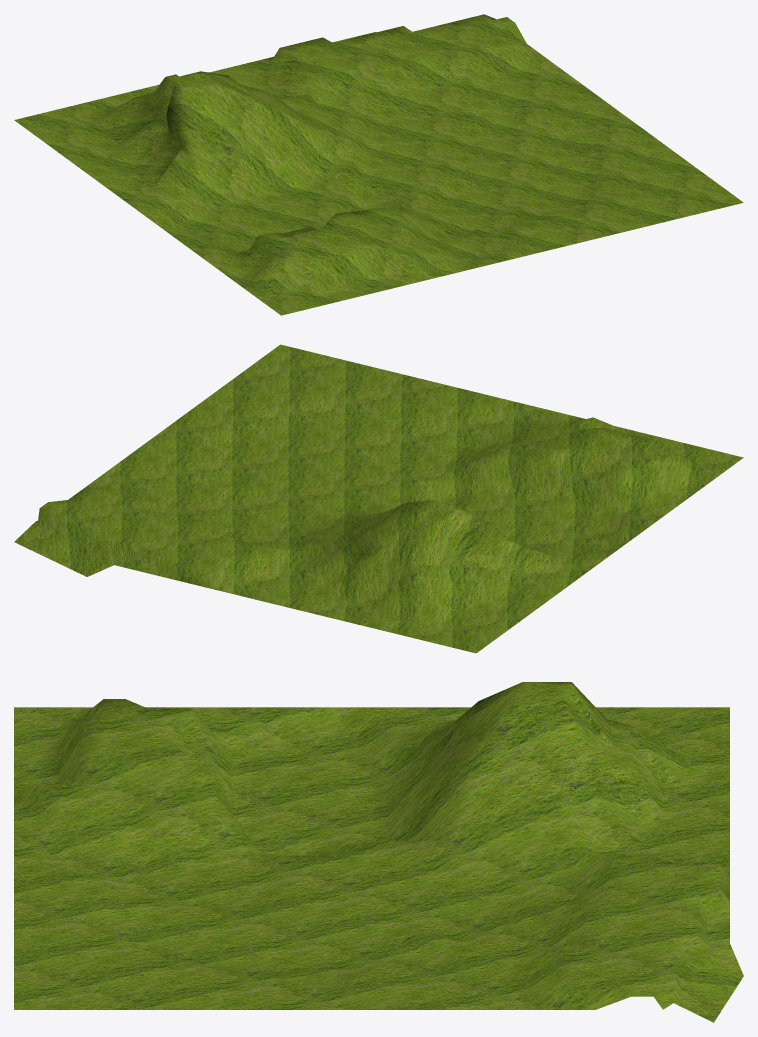
Rendered from GrassMap.fbx.
3 views of the same model, one above another, from view 1: azimuth 30°, elevation 25°; view 2: azimuth 150°, elevation 25°; view 3: azimuth 270°, elevation 25° (orthographic). The views are drawn at different scales.
Visible parts, largest first — view 1: Plane; view 2: Plane; view 3: Plane.
Part boxes in pixels (x1,y1,x2,y2): Plane: (14,14,743,315); Plane: (14,344,743,653); Plane: (14,682,743,1022).
Size of the model in its own units: 1009 by 162 by 1018.
